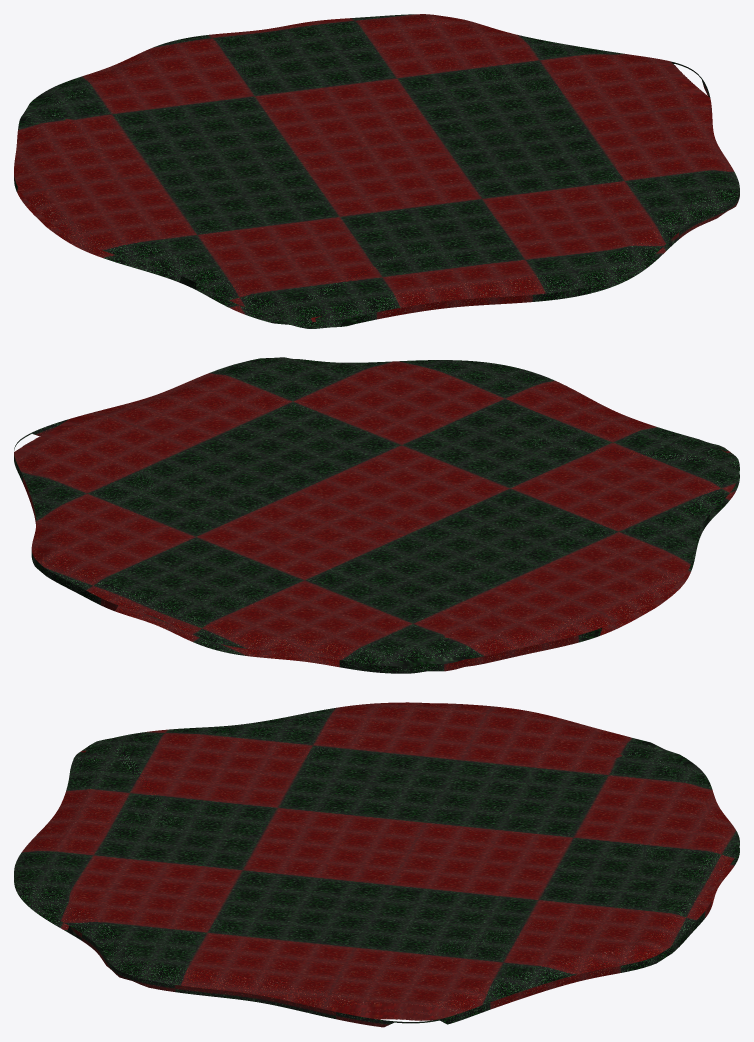
The model's file is pavimento.fbx.
The picture shows the model from 3 angles, top to bottom: view 1: azimuth 30°, elevation 25°; view 2: azimuth 150°, elevation 25°; view 3: azimuth 270°, elevation 25°; orthographic projection. The views are drawn at different scales.
Parts seen in each view (by area): view 1: Plane.001; view 2: Plane.001; view 3: Plane.001.
Part boxes in pixels (x1,y1,x2,y2): Plane.001: [14, 14, 739, 328]; Plane.001: [14, 357, 739, 673]; Plane.001: [14, 702, 739, 1027].
Size of the model in its own units: 4018 by 81.41 by 3868.
1 material, 1 textured.
